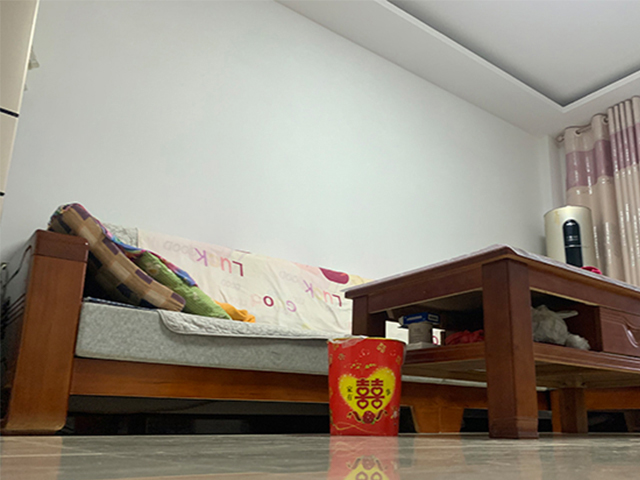sofa: (1, 202, 352, 436)
table: (344, 243, 640, 439)
trashcan: (327, 336, 406, 438)
